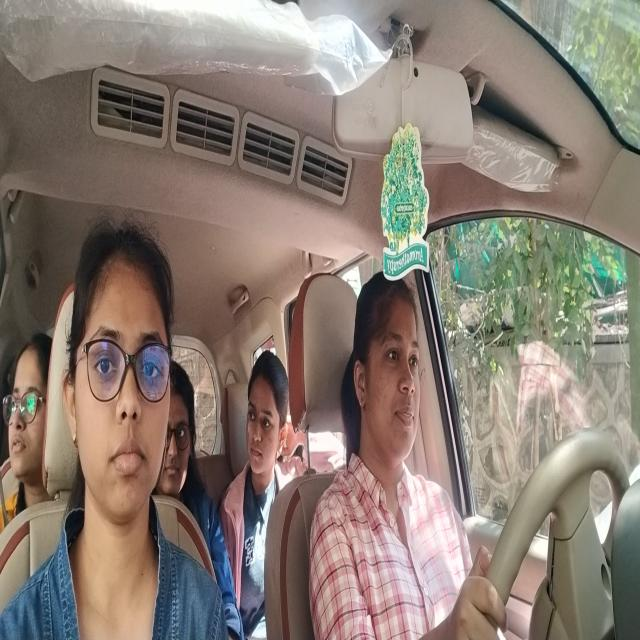person: (63, 218, 171, 540), (355, 264, 423, 460), (3, 331, 54, 497), (246, 346, 289, 479), (161, 361, 197, 494)
